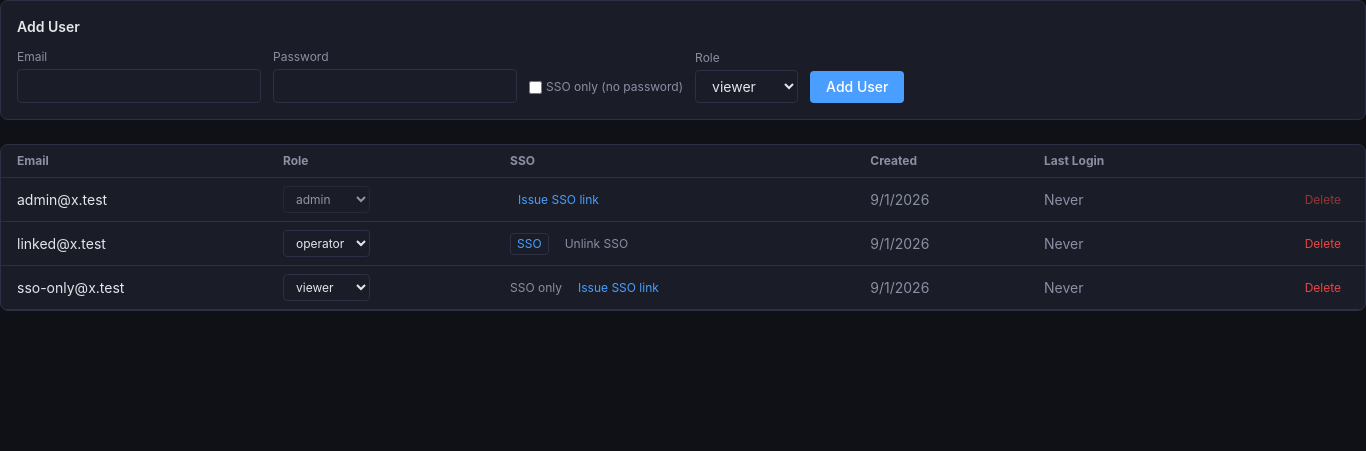
UsersPage SSO controls › issues a one-time SSO link grant and shows the link once
Expected: the text "sso-only@x.test" is shown, [1, 266, 267, 310]
Expected: the text "SSO only" is shown, [510, 280, 562, 296]
Click the button with test id "user-sso-grant" in the row of "sso-only@x.test".
click(618, 288)  # box [570, 276, 667, 300]
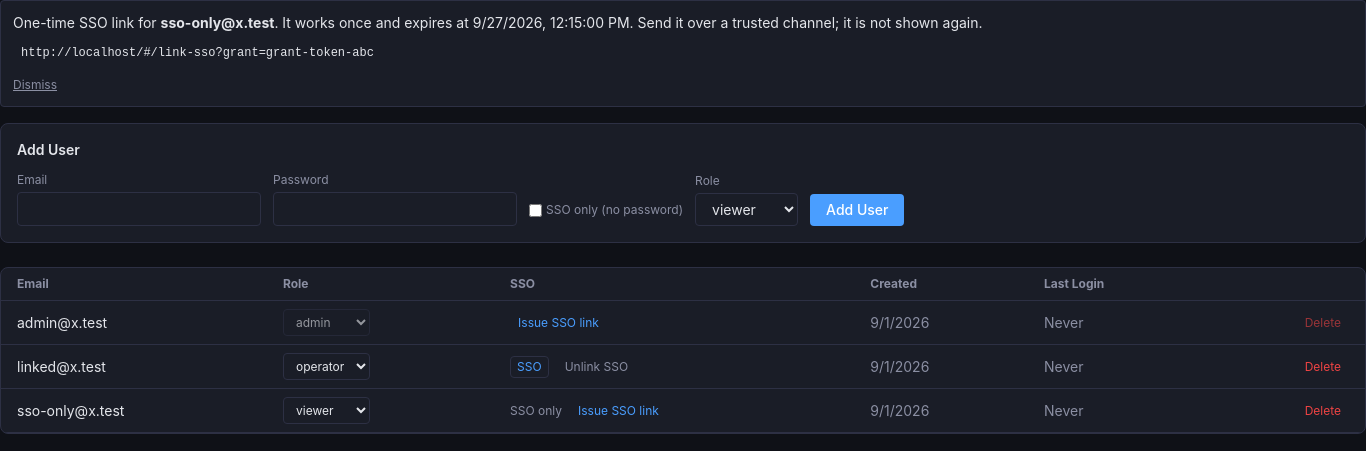
Expected: the element with test id "sso-grant-link" shows "#/link-sso?grant=grant-token-abc", [21, 46, 374, 60]
Expected: the element with test id "sso-grant-link" shows "sso-only@x.test", [161, 14, 274, 31]
